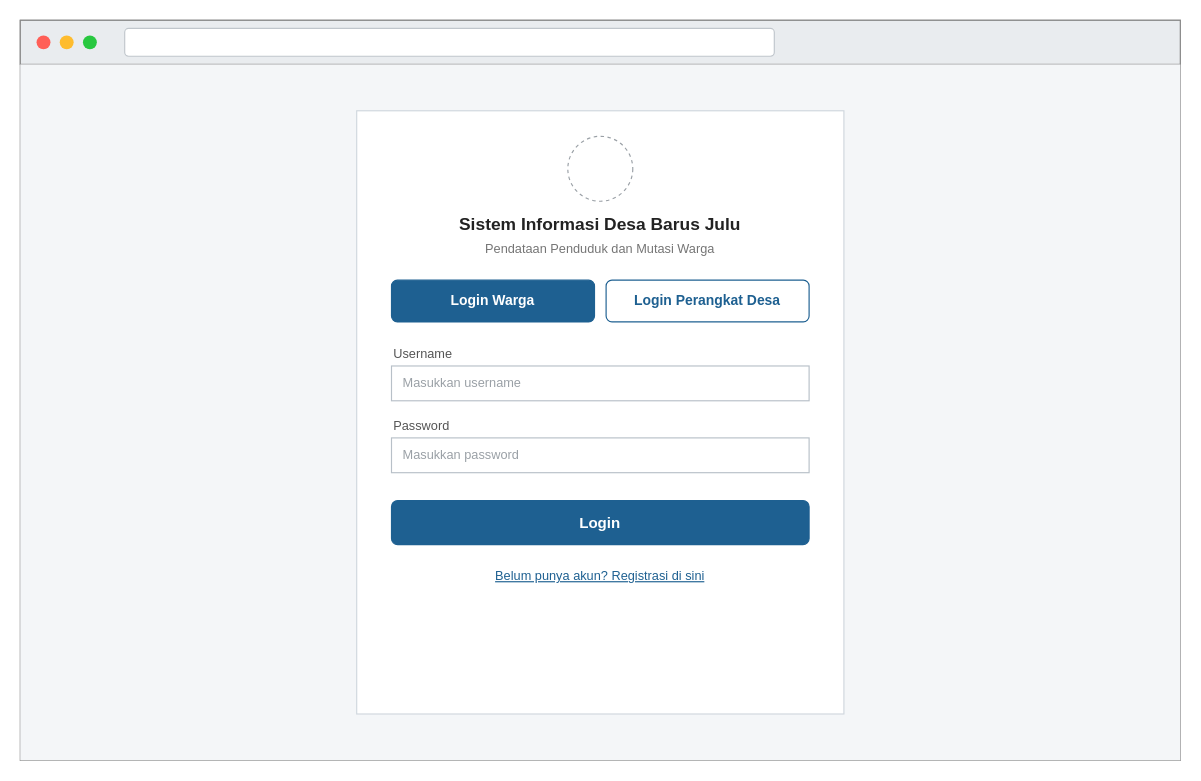
Some shapes in this 1201 by 781 pixel diagram are drawn without their labels. The shapes that lost their labels are listed below. From the top down, each one's centre as x and y in pixels, then its label:
the point at 449,41: localhost/desa-barus-julu/login
the point at 600,168: Logo
